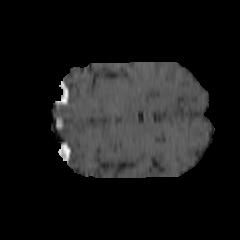glioma: (102, 113, 160, 160)
